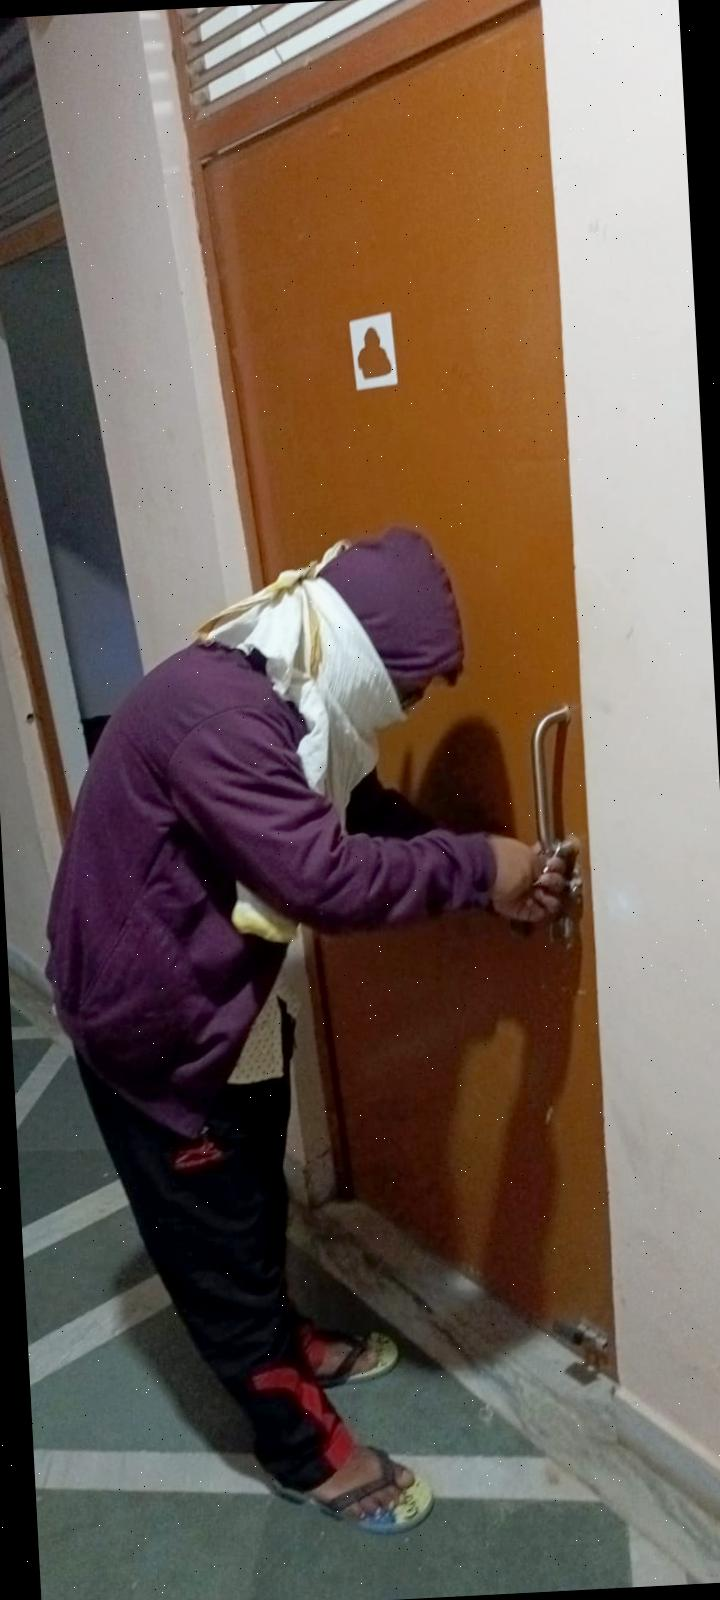suspicion: (0, 461, 720, 1600), (0, 466, 576, 1600)
